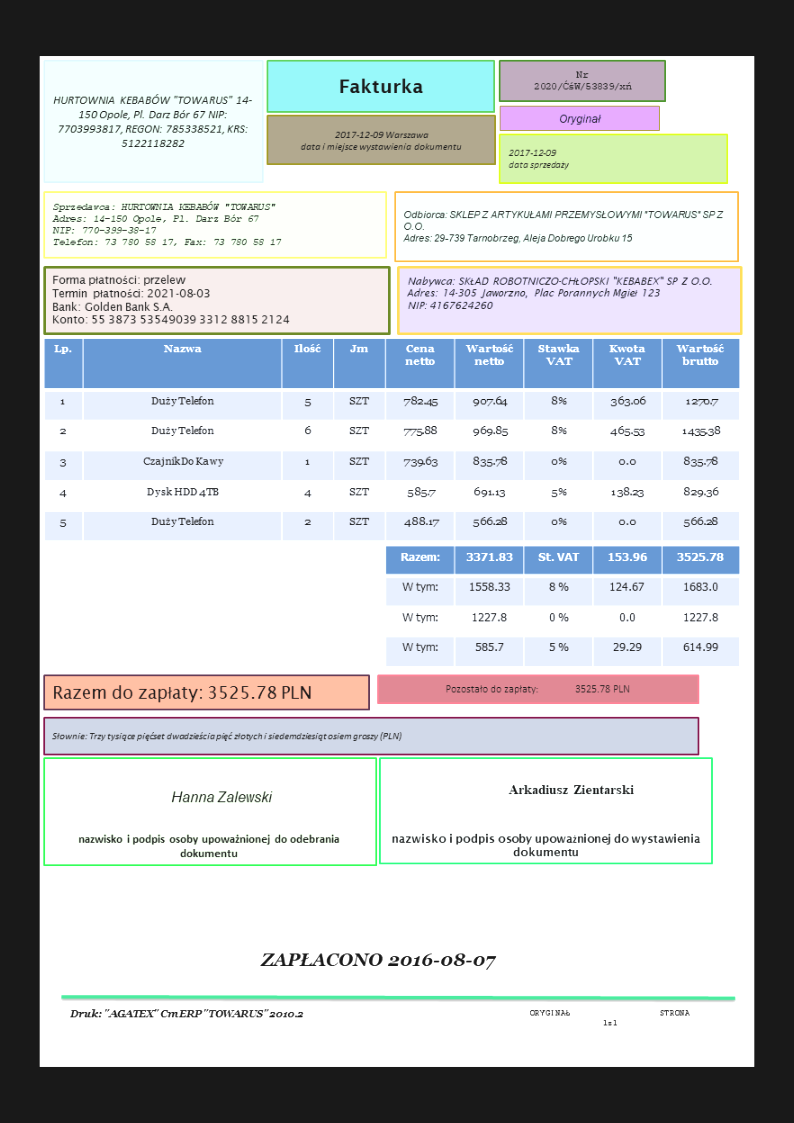Table: (42, 336, 742, 543), (384, 543, 741, 665)
TextBox: (399, 204, 726, 249), (402, 270, 716, 315), (48, 272, 292, 326), (51, 90, 255, 153), (48, 197, 284, 251), (388, 827, 705, 859), (74, 828, 345, 862), (47, 676, 314, 704), (258, 945, 500, 974), (47, 726, 405, 745), (295, 125, 464, 154), (66, 1005, 310, 1025), (527, 1005, 692, 1031), (440, 678, 636, 698), (167, 782, 275, 809), (532, 66, 636, 94), (506, 780, 638, 801), (333, 73, 426, 97), (505, 144, 572, 175), (556, 109, 605, 126)
